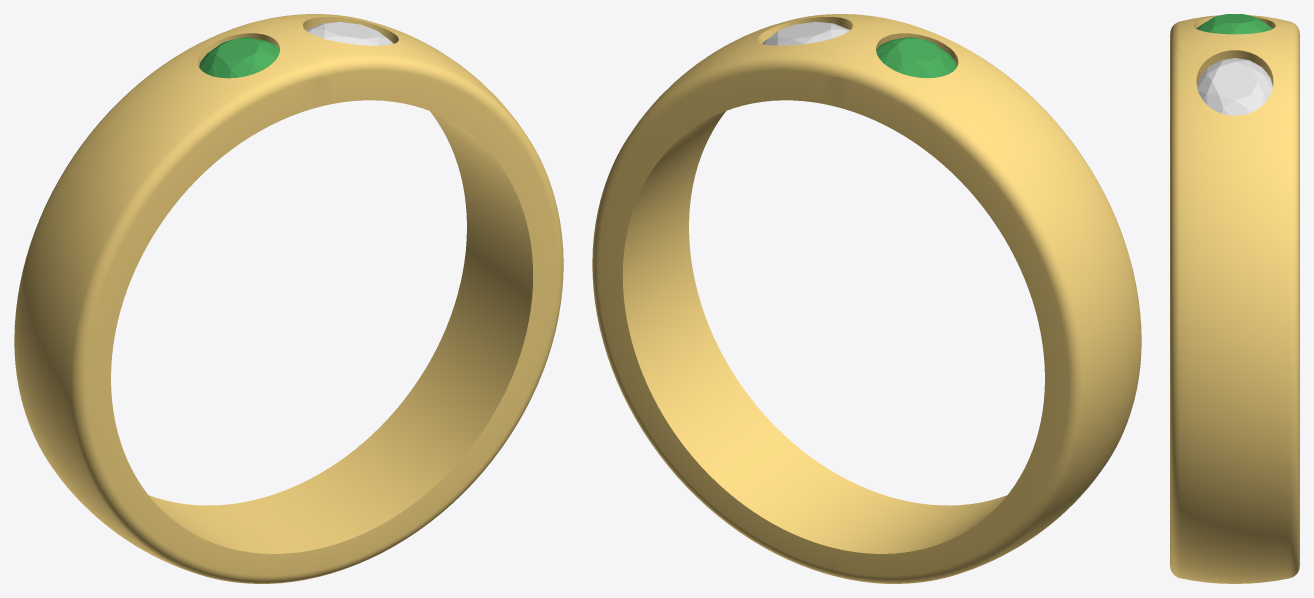
The model's file is EmilyV2_blender.glb.
3 renders of one model, left to right at view 1: azimuth 30°, elevation 25°; view 2: azimuth 150°, elevation 25°; view 3: azimuth 270°, elevation 25°, orthographic. The views are drawn at different scales.
Visible parts, largest first — view 1: V2 Emily YG for 3d model, Emily jade for 3d model, Emily dia for 3d model; view 2: V2 Emily YG for 3d model, Emily jade for 3d model, Emily dia for 3d model; view 3: V2 Emily YG for 3d model, Emily dia for 3d model, Emily jade for 3d model.
Boxes of the visible parts, x1,y1,x2,y2 form: V2 Emily YG for 3d model: (14, 14, 563, 583); Emily jade for 3d model: (199, 37, 279, 78); Emily dia for 3d model: (306, 22, 393, 45); V2 Emily YG for 3d model: (592, 14, 1141, 583); Emily jade for 3d model: (876, 37, 956, 78); Emily dia for 3d model: (762, 22, 849, 45); V2 Emily YG for 3d model: (1170, 15, 1299, 583); Emily dia for 3d model: (1197, 58, 1272, 115); Emily jade for 3d model: (1196, 14, 1272, 34).
Size of the model in its own units: 22.38 by 22.44 by 5.1.
